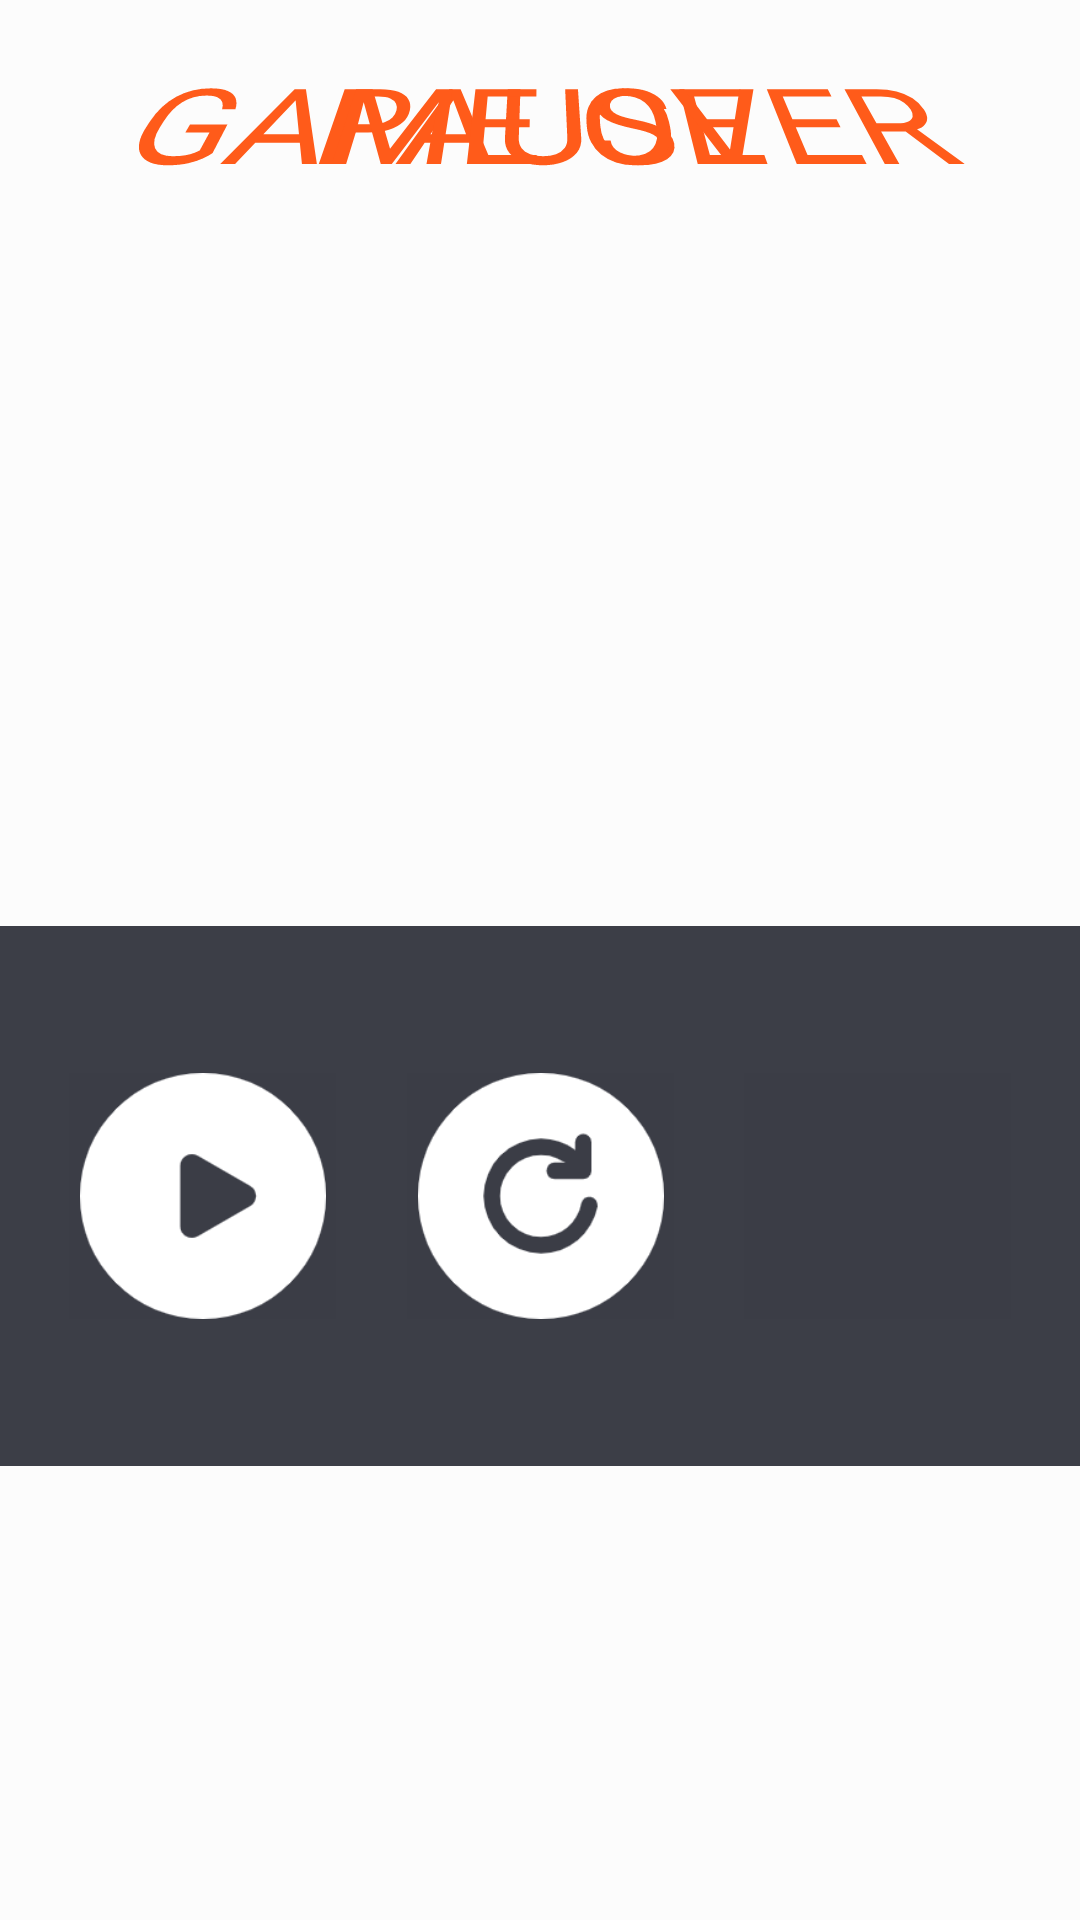

Point at icon controls on the screen. Image size 1080px×1920px, points as point (x, y).
goon: point (203, 1196)
restart: point (541, 1196)
